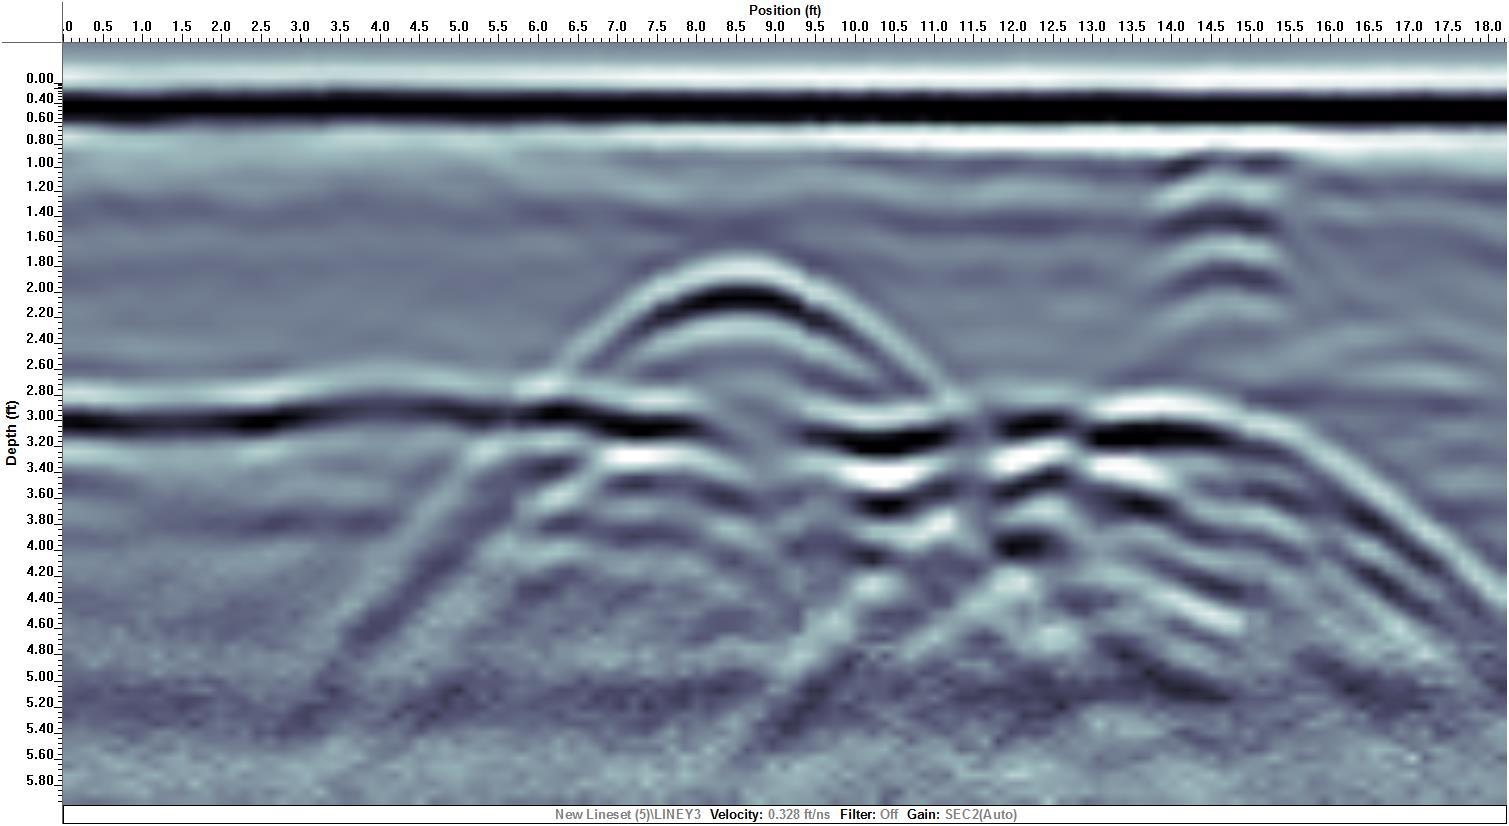hyperbola: (531, 234, 940, 393)
